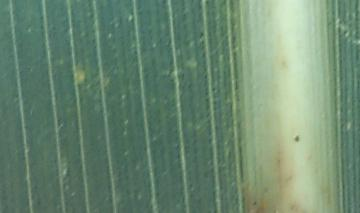tarspot: (292, 134, 301, 142), (252, 201, 258, 206)
